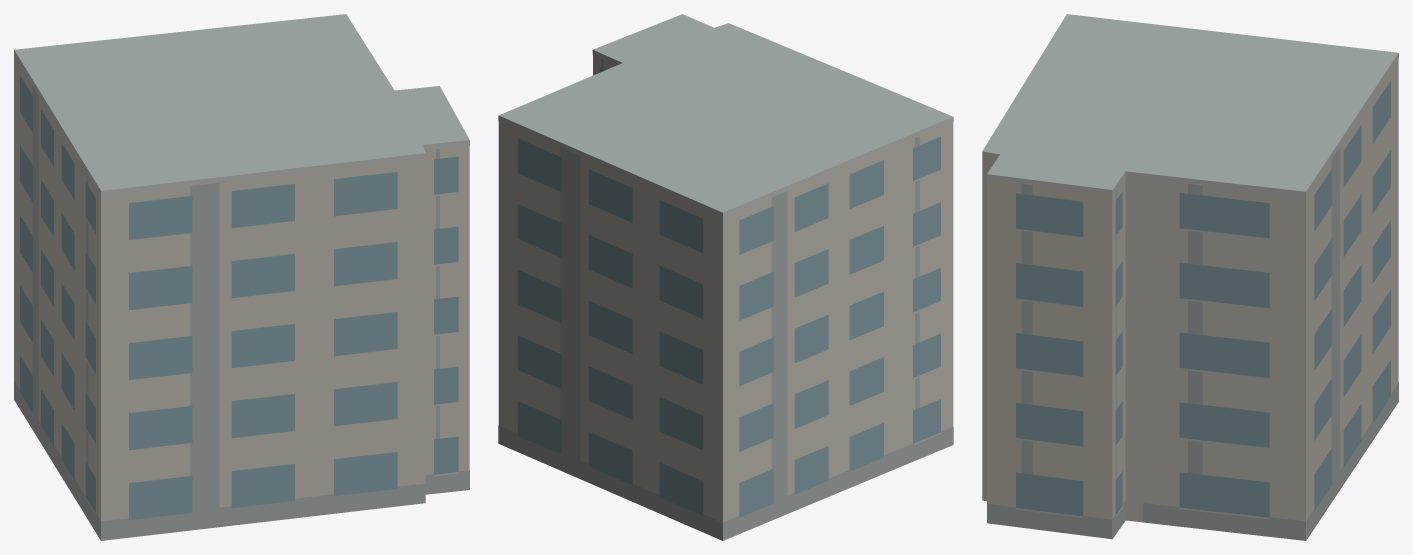
File: survey-upis-32505069.glb
3 renders of one model, left to right at view 1: azimuth 30°, elevation 25°; view 2: azimuth 150°, elevation 25°; view 3: azimuth 270°, elevation 25°, orthographic. The views are drawn at different scales.
Visible parts, largest first — view 1: survey-upis-32505069.tmp; view 2: survey-upis-32505069.tmp; view 3: survey-upis-32505069.tmp.
Part boxes in pixels (x1,y1,x2,y2): survey-upis-32505069.tmp: [14, 14, 469, 540]; survey-upis-32505069.tmp: [498, 14, 953, 540]; survey-upis-32505069.tmp: [982, 14, 1398, 540].
Bounding box in the file's own units: 16.66 × 15.25 × 16.5.
